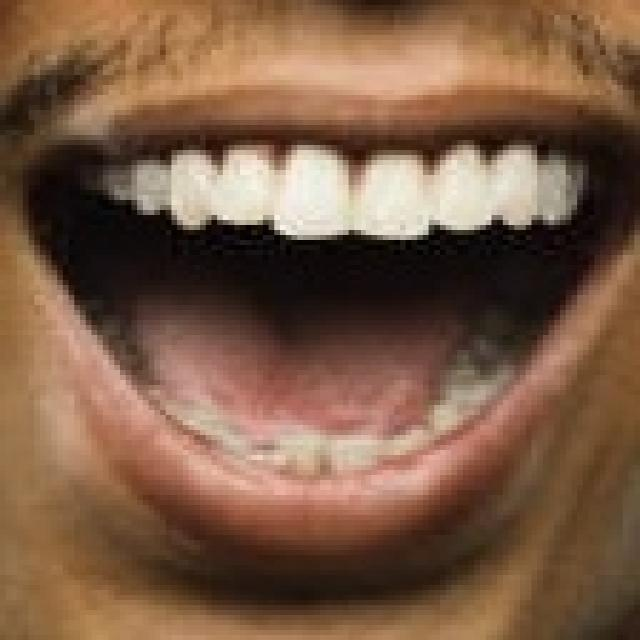open-mouth: (11, 75, 634, 575)
